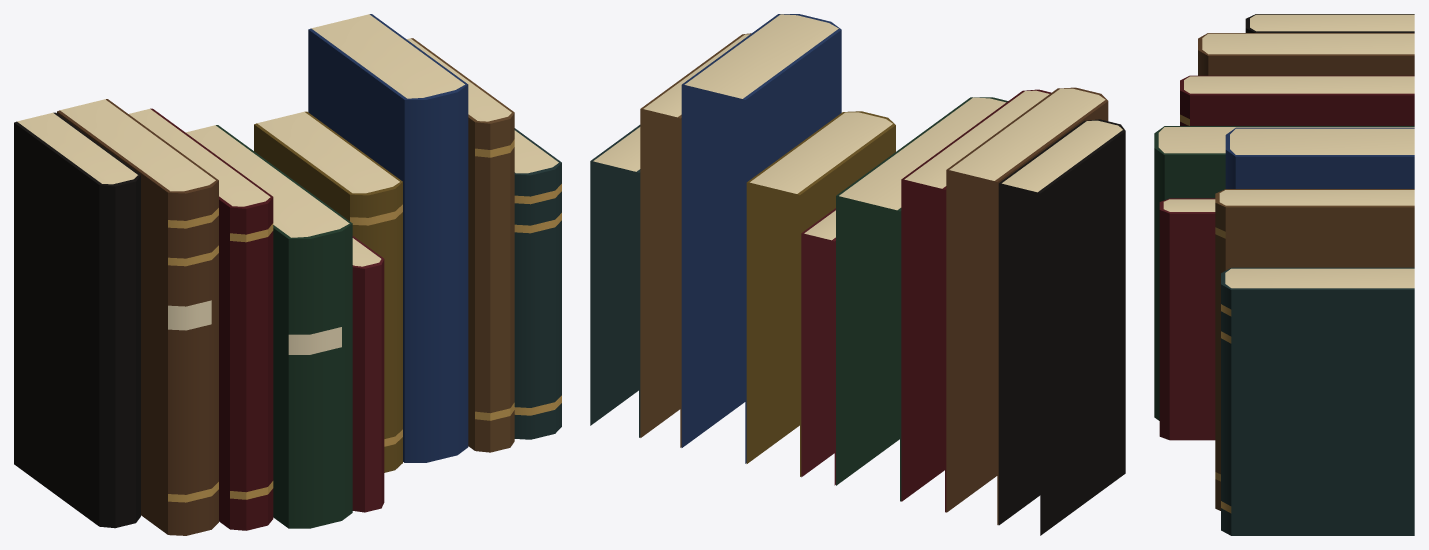
Rendered from bookrow_short_2.glb.
3 renders of one model, left to right at view 1: azimuth 30°, elevation 25°; view 2: azimuth 150°, elevation 25°; view 3: azimuth 270°, elevation 25°, orthographic. The views are drawn at different scales.
Visible parts, largest first — view 1: bookrow_short_2; view 2: bookrow_short_2; view 3: bookrow_short_2.
Part boxes in pixels (x1,y1,x2,y2): bookrow_short_2: [14, 14, 561, 535]; bookrow_short_2: [590, 14, 1125, 535]; bookrow_short_2: [1154, 14, 1414, 535].
Bounding box in the file's own units: 0.4916 × 0.3801 × 0.2652.
